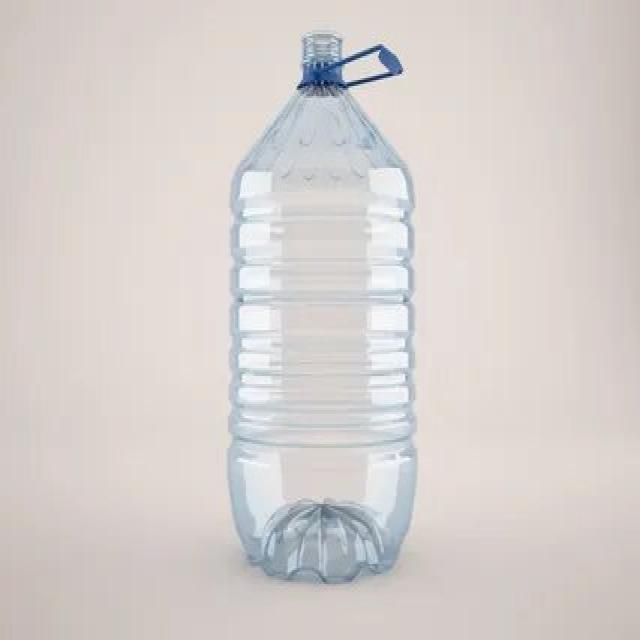blue: (228, 31, 414, 586)
